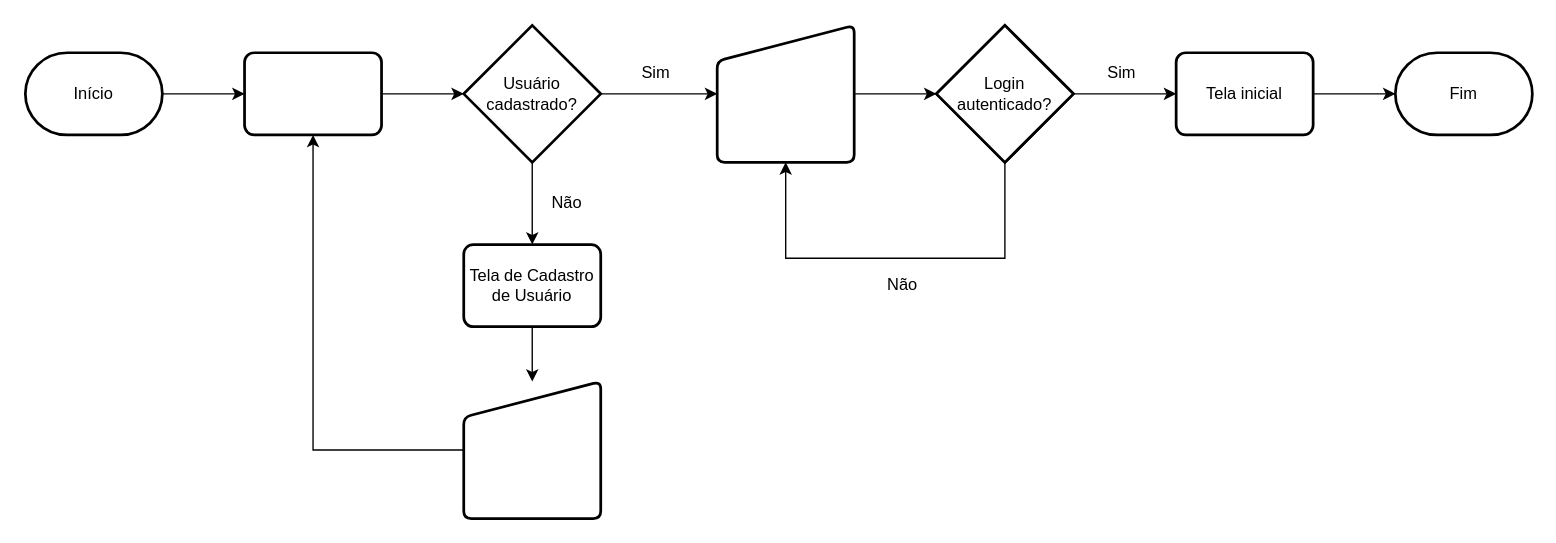
Image size: 1556x543. Some labels were removed from this diagram. The shapes that lost their labels are listed below. From the top down, each one's box as (x1, y1, x2, y2) in pixels, then its label:
(242, 51, 382, 136): Tela de Login
(715, 23, 855, 163): Inserir email e senha e clicar em entrar
(462, 379, 601, 519): Inserir email, nome e senha e confirmar cadastro
